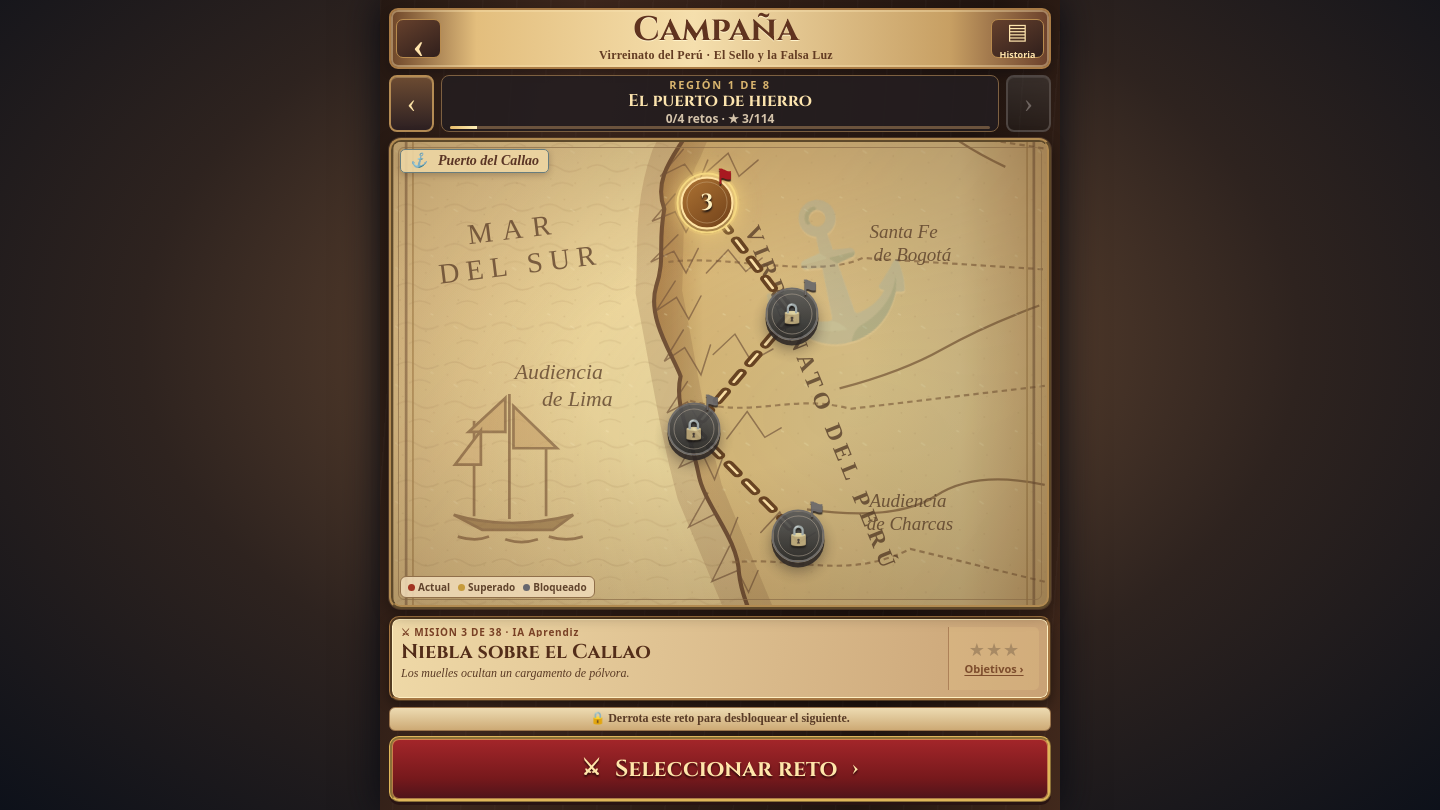
Test case: winning the second prologue battle opens the next region and its first challenge only
Check: the text "El puerto de hierro" is shown, box [628,92,812,111]
What coordinates should you click on to do the following:
click the button named "Capítulo anterior"
I would click on:
 (412, 104)
Its box is [389,75,434,132].
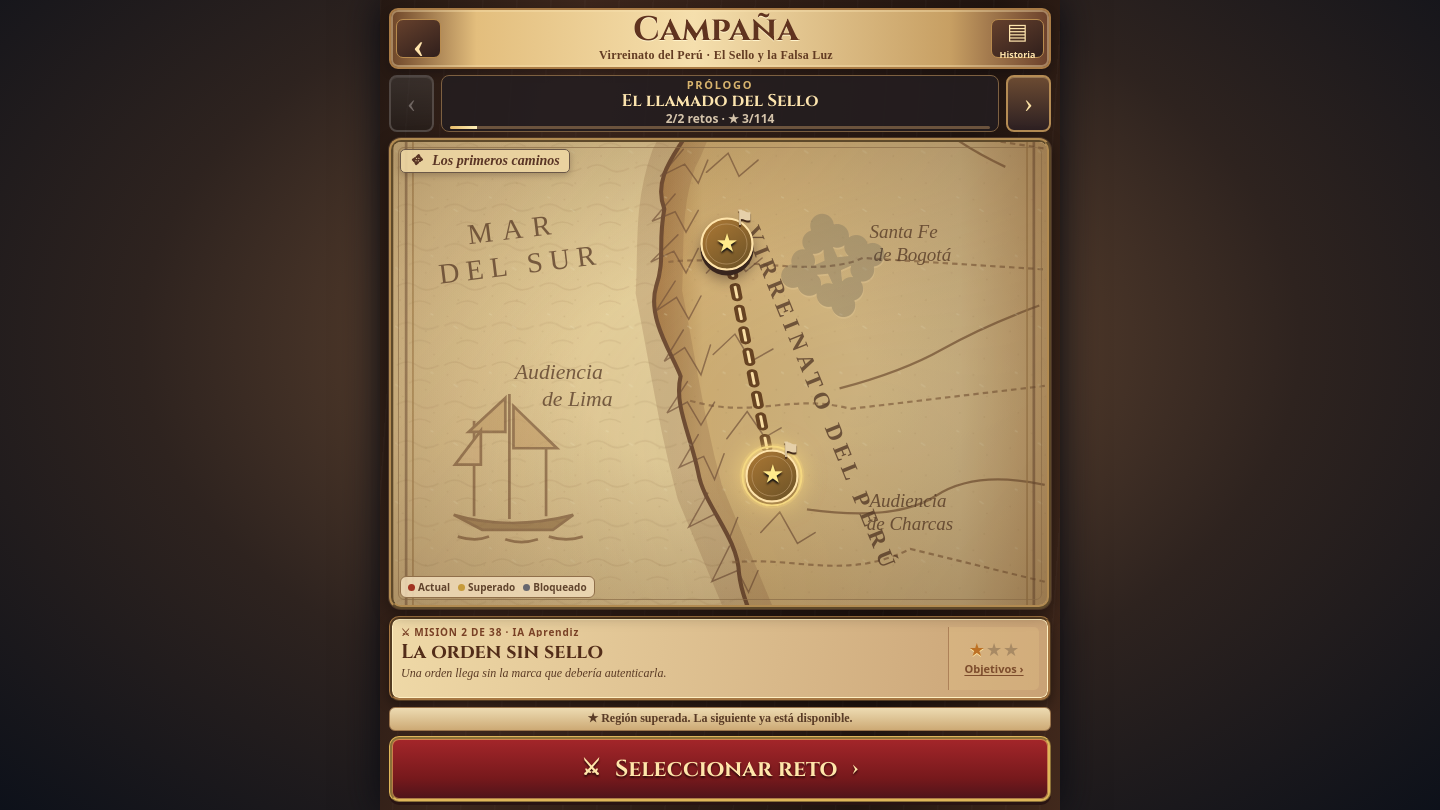
Check: the text "El llamado del Sello" is shown, box [622,92,818,111]
What coordinates should you click on to do the following:
click the button named "Capítulo siguiente"
I would click on:
 (1028, 104)
Its box is [1006,75,1051,132].
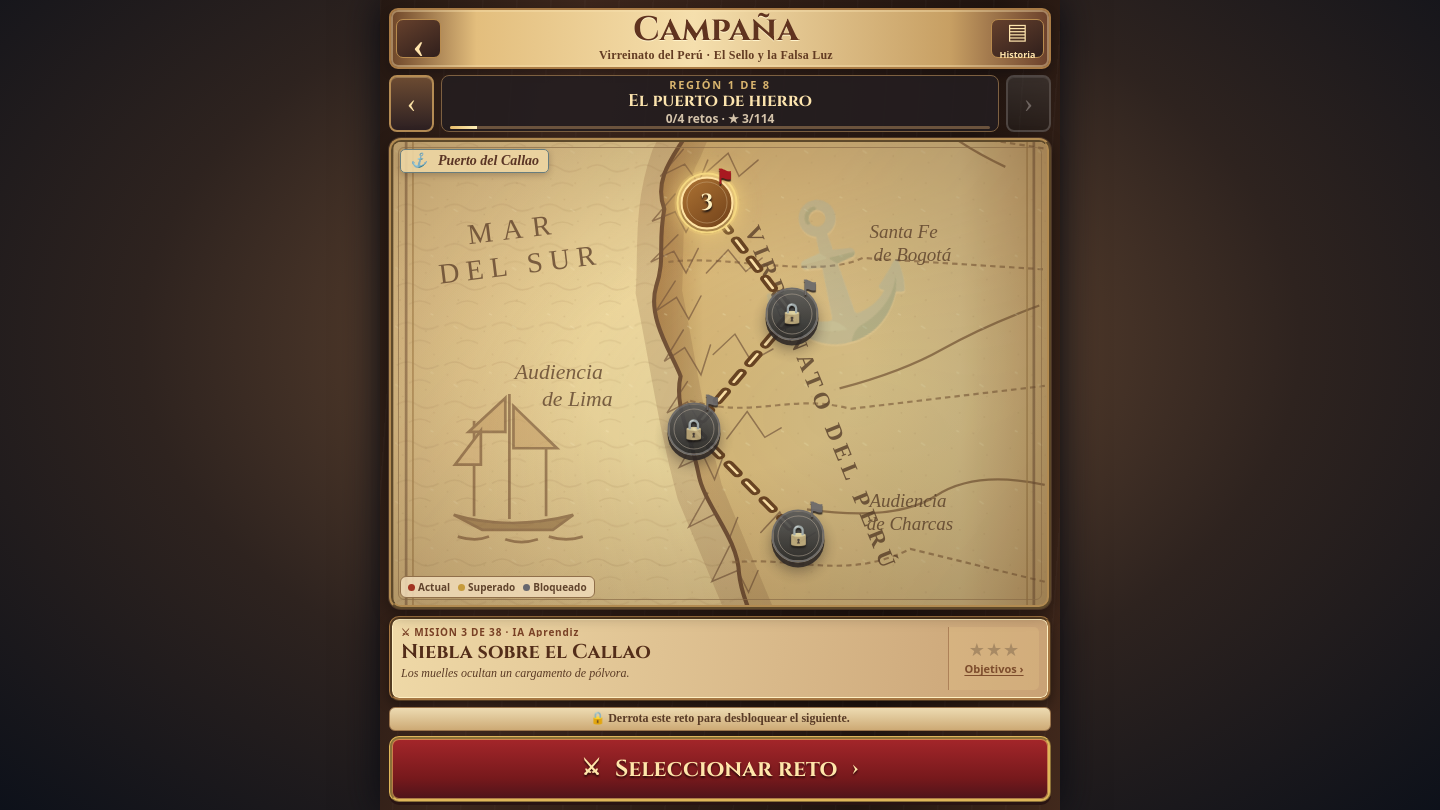
Check: the text "El puerto de hierro" is shown, box [628,92,812,111]
Check: the button named "Misión 3:" is enabled, box [680,176,733,229]
Check: the button named "Misión 4:" is disabled, box [765,287,818,340]
